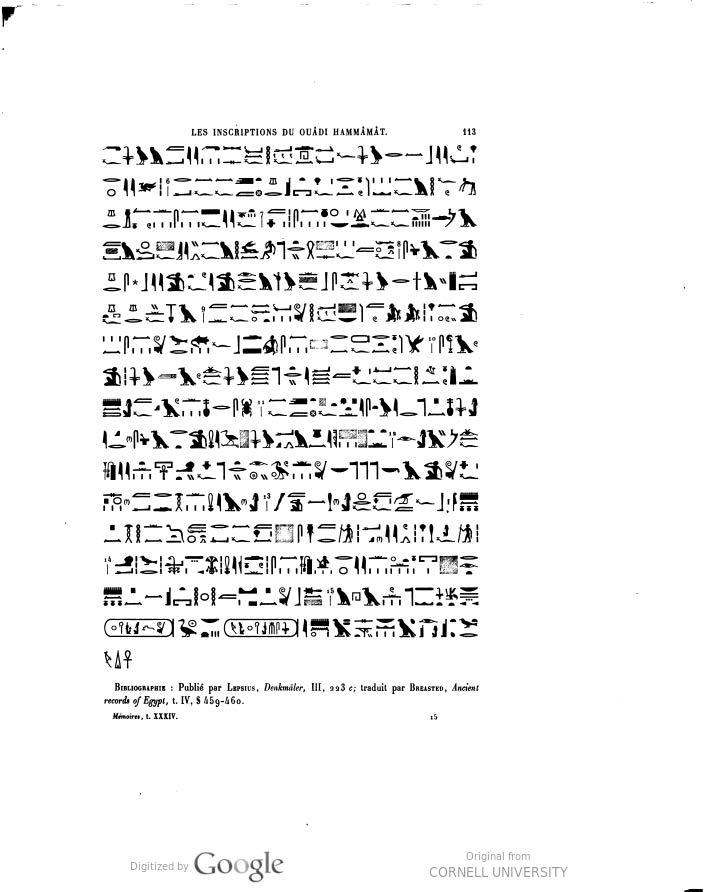circle: (215, 612, 313, 647), (99, 616, 182, 646)
